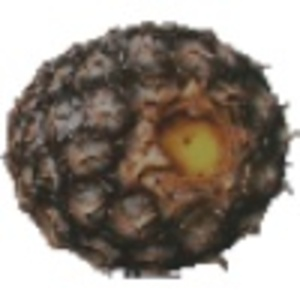abacaxi: (5, 12, 294, 268)
